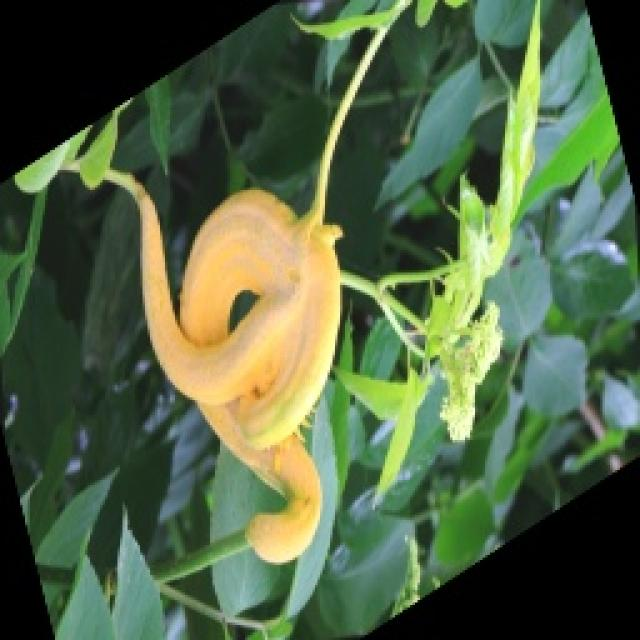Elderberry_rust: (100, 165, 348, 565)
